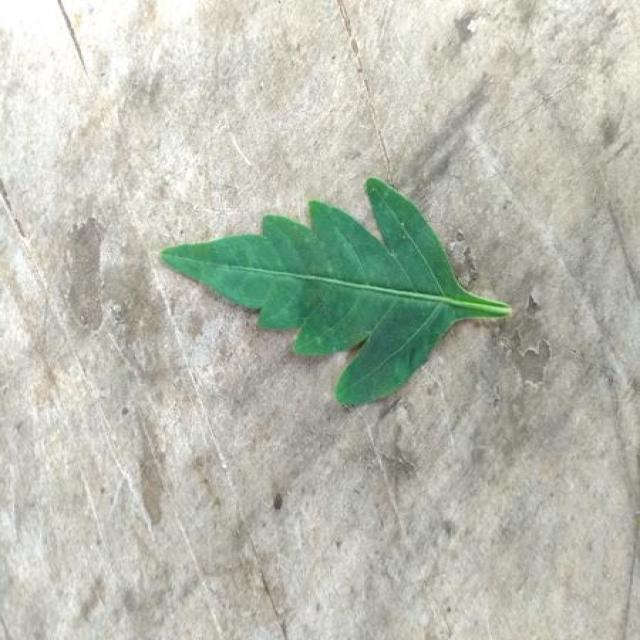balloon_Vine: (160, 178, 512, 404)
